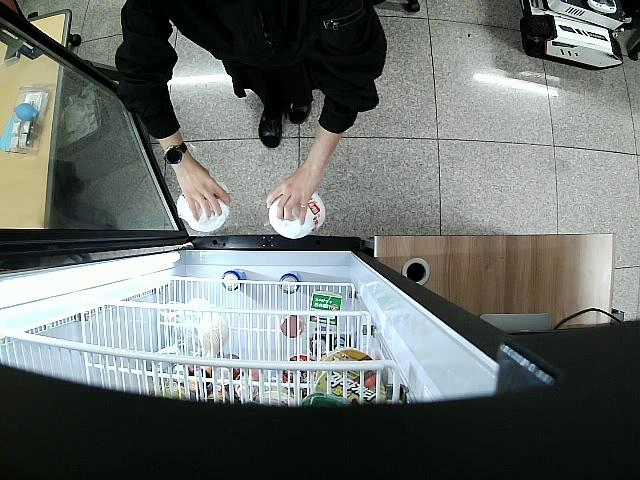00_hand: (179, 161, 232, 222), (266, 173, 319, 224)
09_yukGaeJang: (269, 189, 327, 237), (178, 183, 232, 232)
